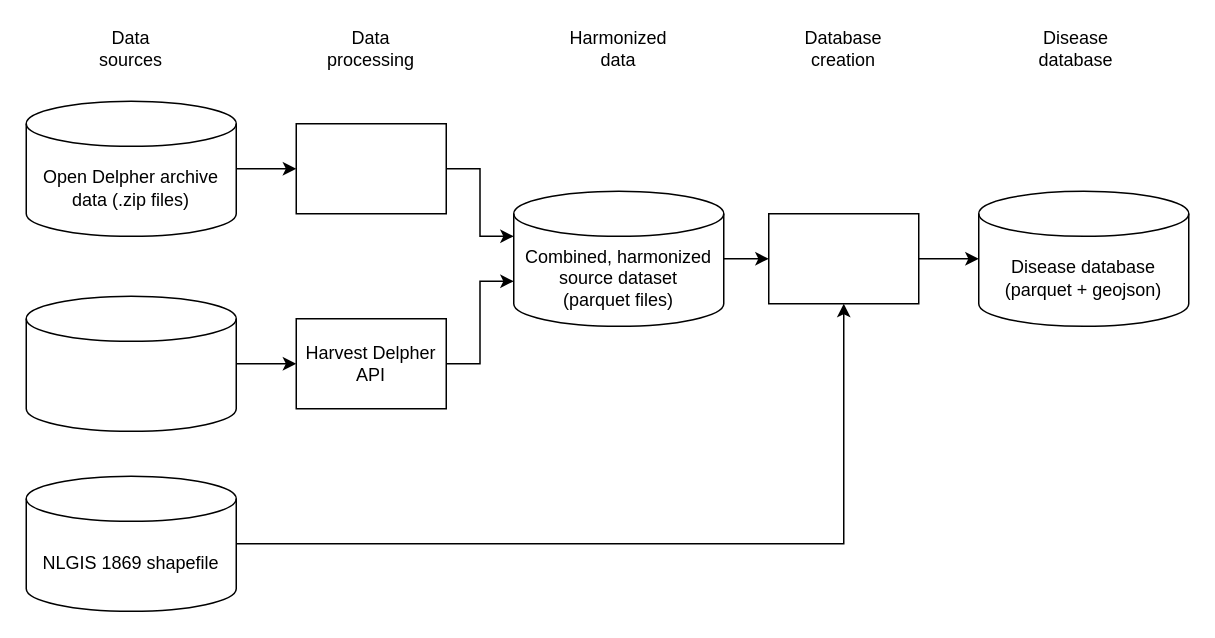
The diagram is 1215 pixels wide and 638 high, and some of its shapes have lost their labels. The shapes that lost their labels are listed below. From the top down, each one's centre as x and y in pixels, then its label:
At point (370, 168): "Process open archive".
At point (843, 258): "Create database".
At point (130, 363): "Restricted Delpher API".
